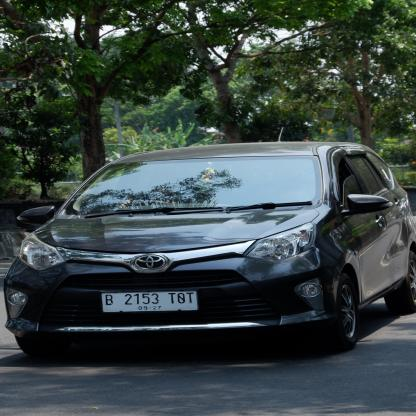Plat-Nomor: (100, 288, 202, 314)
